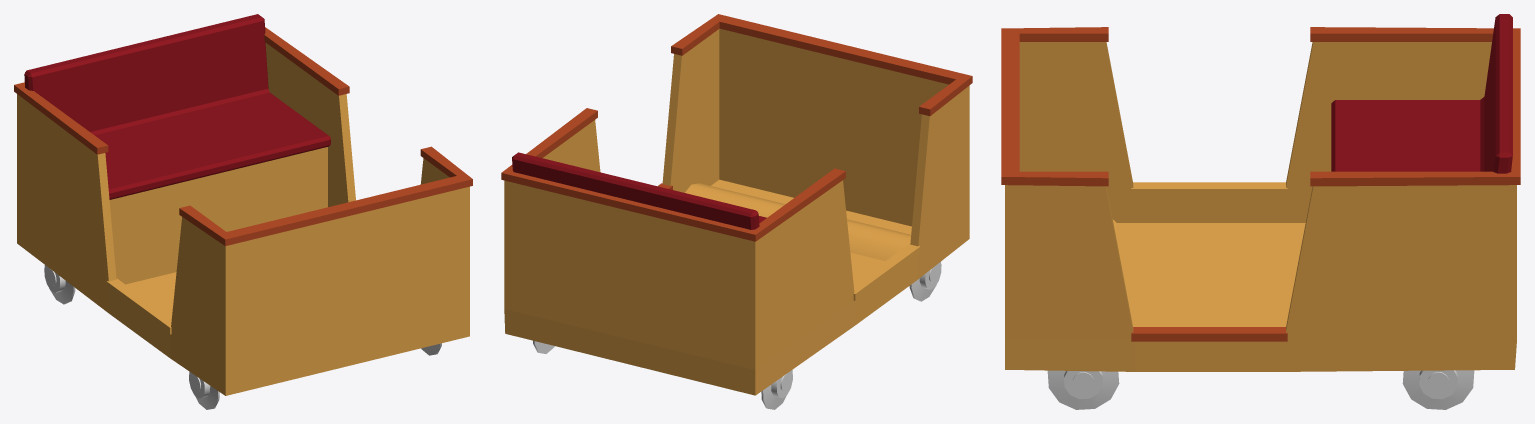
The model's file is cart.fbx.
The picture shows the model from 3 angles, left to right: view 1: azimuth 30°, elevation 25°; view 2: azimuth 150°, elevation 25°; view 3: azimuth 270°, elevation 25°; orthographic projection. The views are drawn at different scales.
Visible parts, largest first — view 1: Cube.001; view 2: Cube.001; view 3: Cube.001.
Part boxes in pixels (box(x1,y1,x2,y2)): Cube.001: box(14, 14, 472, 409); Cube.001: box(501, 14, 972, 409); Cube.001: box(1001, 14, 1520, 409).
Bounding box in the file's own units: 125 × 99.81 × 181.
